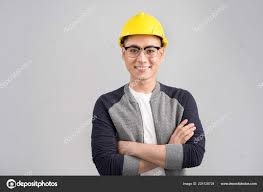Person_wearing_helmet: (113, 10, 174, 56)
